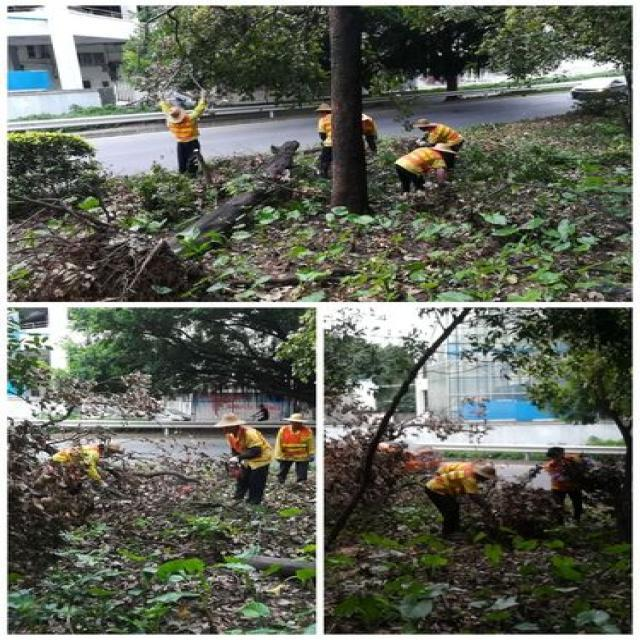fallen_object: (25, 140, 304, 304)
